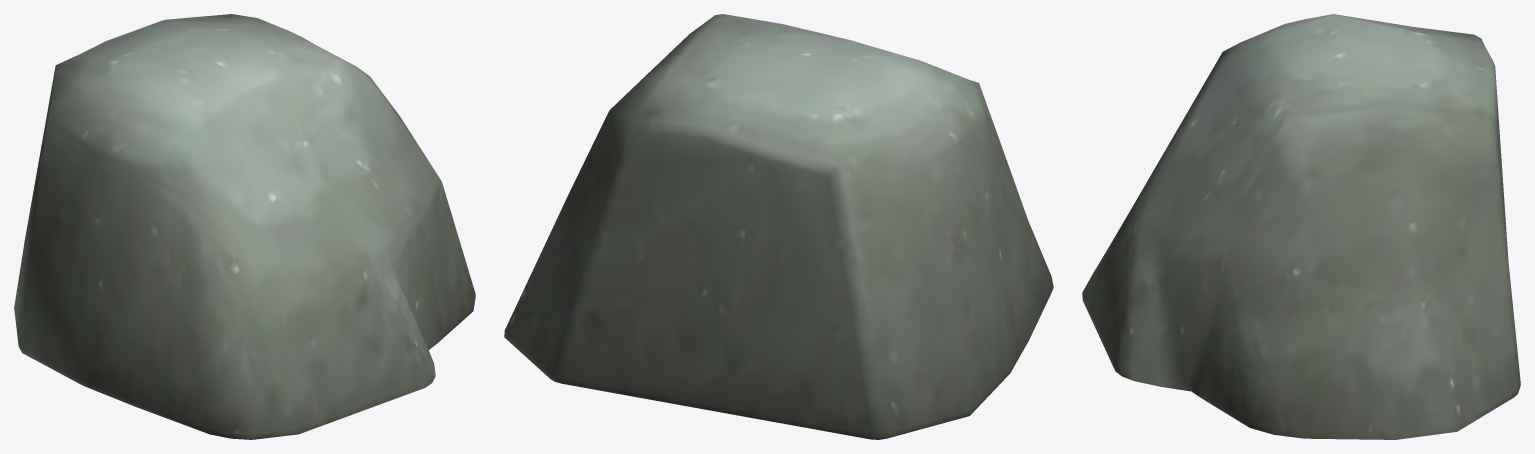
Rendered from rock.glb.
3 renders of one model, left to right at view 1: azimuth 30°, elevation 25°; view 2: azimuth 150°, elevation 25°; view 3: azimuth 270°, elevation 25°, orthographic. The views are drawn at different scales.
Size of the model in its own units: 9.58 by 6.09 by 8.8.
1 material, 1 textured.
